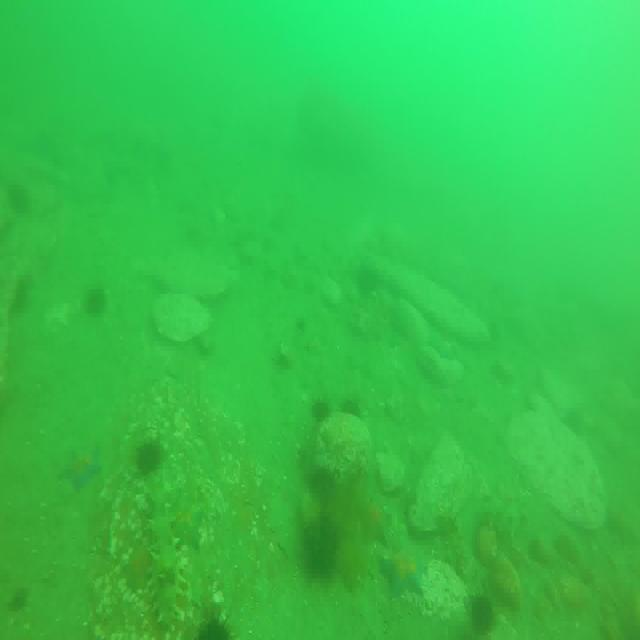echinus: (305, 526, 335, 582), (195, 611, 235, 640), (468, 594, 492, 640), (312, 459, 338, 500), (138, 442, 164, 478), (82, 280, 106, 318), (341, 398, 362, 426), (314, 400, 326, 423)
holothurian: (148, 502, 185, 626)
starfish: (379, 542, 427, 591), (58, 443, 102, 487), (360, 493, 390, 542)
